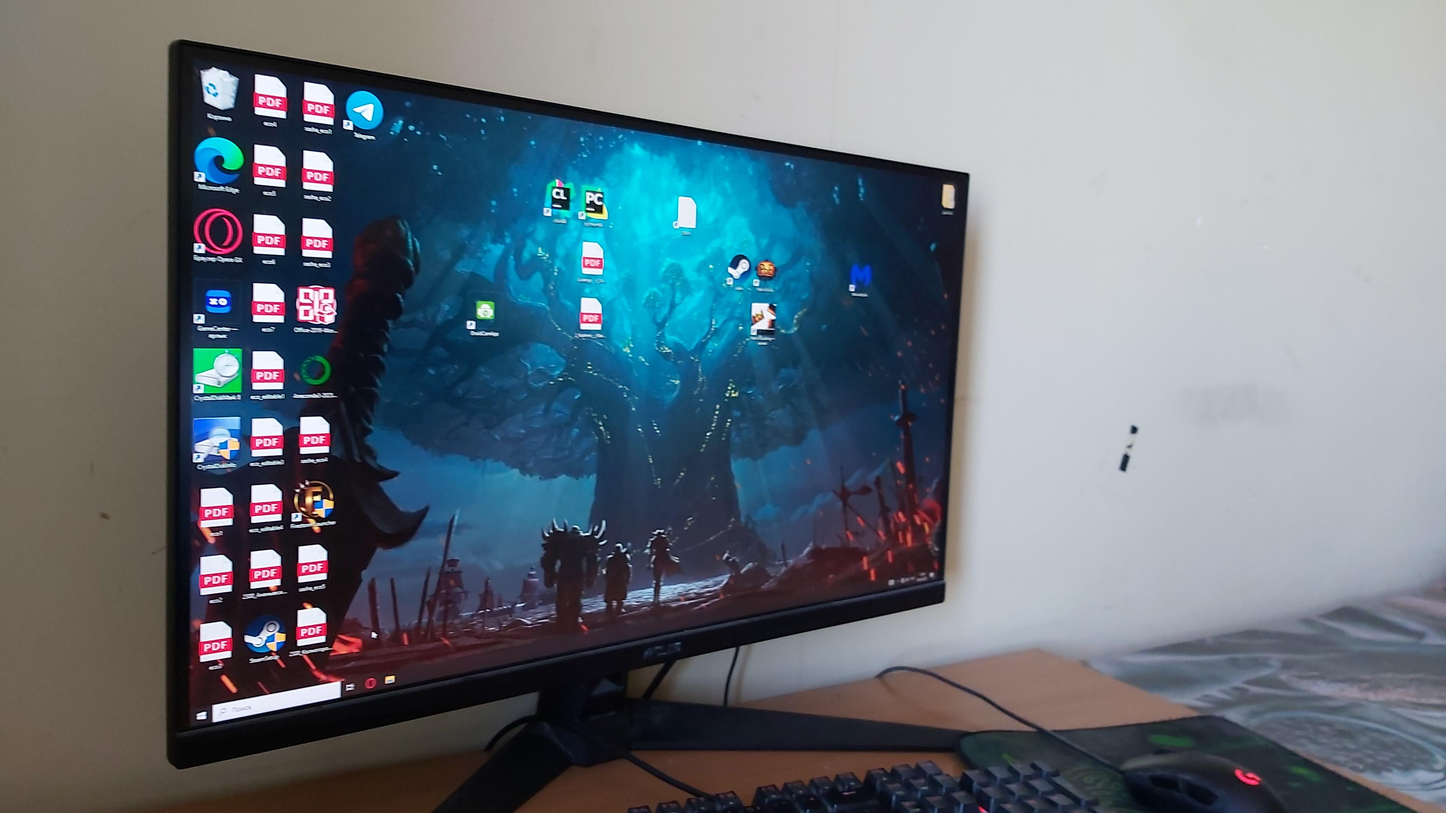monitor: (154, 36, 974, 776)
